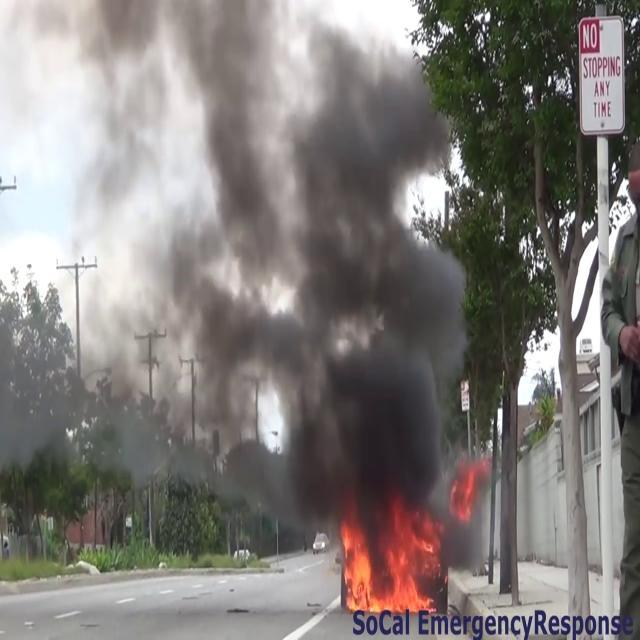Fire: (338, 504, 443, 622)
Smoke: (49, 1, 467, 526)
